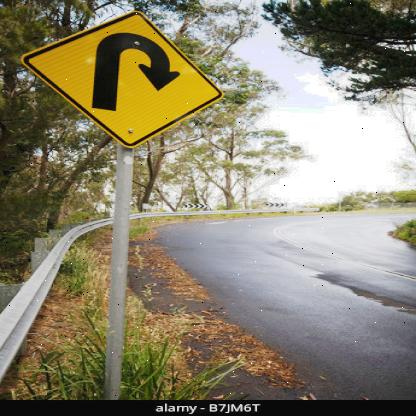U-turn: (19, 12, 227, 153)
